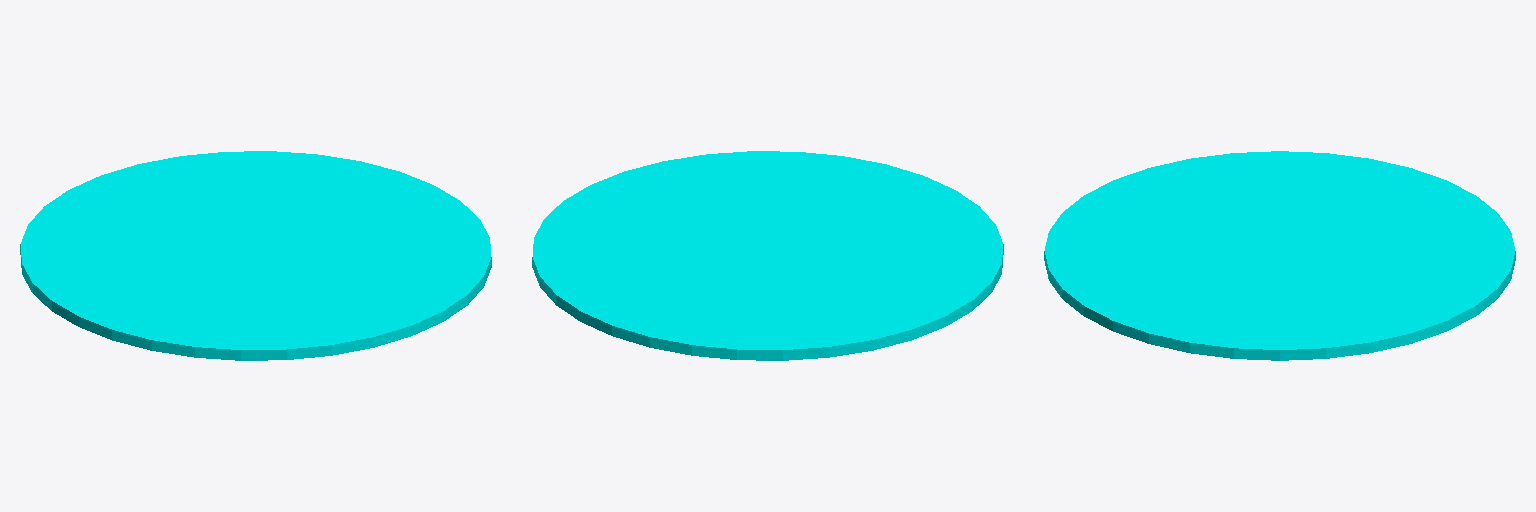
URDF robot description (carpet):
<?xml version="1.0" ?>
<robot name="carpet">

  <material name="front_color">
    <color rgba="0 1 0 1"/>
  </material>

  <material name="back_color">
    <color rgba="0 1 1 1"/>
  </material>

  <link name="back">
    <visual>
      <geometry>
        <cylinder length="0.05" radius="1.00"/>
      </geometry>
      <material name="back_color"/>
    </visual>
    <collision>
      <geometry>
        <cylinder length="0.05" radius="1.00"/>
      </geometry>
    </collision>
    <inertial>
      <mass value="100"/>
      <inertia ixx="0.00000633" ixy="0.0" ixz="0.0" iyy="0.00000633" iyz="0.0" izz="0.0000125"/>
    </inertial>
  </link>

  <link name="front">
    <visual>
      <geometry>
        <cylinder length="0.00" radius="0.00"/>
      </geometry>
      <origin xyz="0 0 0.01"/>
      <material name="front_color"/>
    </visual>
    <collision>
      <geometry>
        <cylinder length="0.00" radius="0.00"/>
      </geometry>
      <origin xyz="0 0 0.01"/>
    </collision>
    <inertial>
      <mass value="50"/>
      <inertia ixx="0.00000633" ixy="0.0" ixz="0.0" iyy="0.00000633" iyz="0.0" izz="0.0000125"/>
    </inertial>
  </link>

  <joint name="fixed" type="fixed">
    <parent link="back"/>
    <child link="front"/>
  </joint>

</robot>

--- What the picture shows (computed from the rendered views, not written in the file) ---
3 views of the same robot in one strip: view 1: azimuth 30°, elevation 25°; view 2: azimuth 150°, elevation 25°; view 3: azimuth 270°, elevation 25° (orthographic).
Model carpet with 2 links and 1 joints (1 fixed), rooted at back, posed every joint at zero.
Visible links, largest first — view 1: back; view 2: back; view 3: back.
Link boxes in pixels (x1,y1,x2,y2): back: (20,151,491,360); back: (532,151,1003,360); back: (1044,151,1515,360).
Size in the robot's own frame: 2 by 2 by 0.05 metres.
Geometry: primitives only (box / cylinder / sphere), no mesh files.